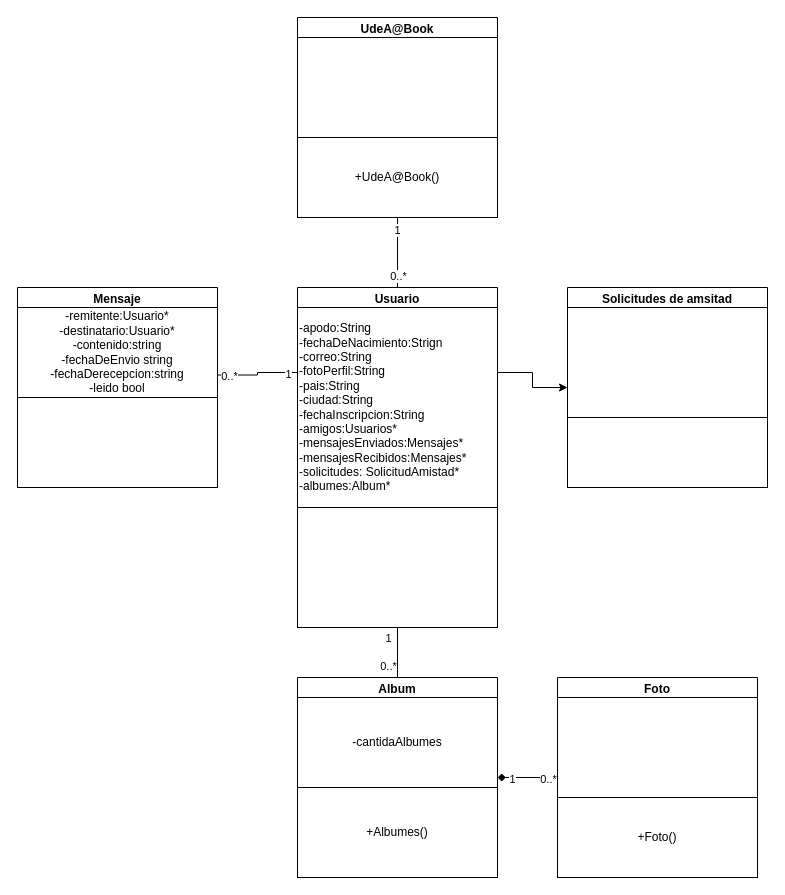
The diagram is 785 pixels wide and 895 high, and some of its shapes have lost their labels. Each missing label, with the centre of its shape:
+Mensajes(): the point at 117,442
+SolicitudesDeAmistad(): the point at 667,452
+Usuario() +getters:String +setters:Void: the point at 397,567
-cantidadFotos: the point at 657,747
-cantidadSolicitudes: the point at 667,362
-cantidadUsuarios -credenciales: the point at 397,87
